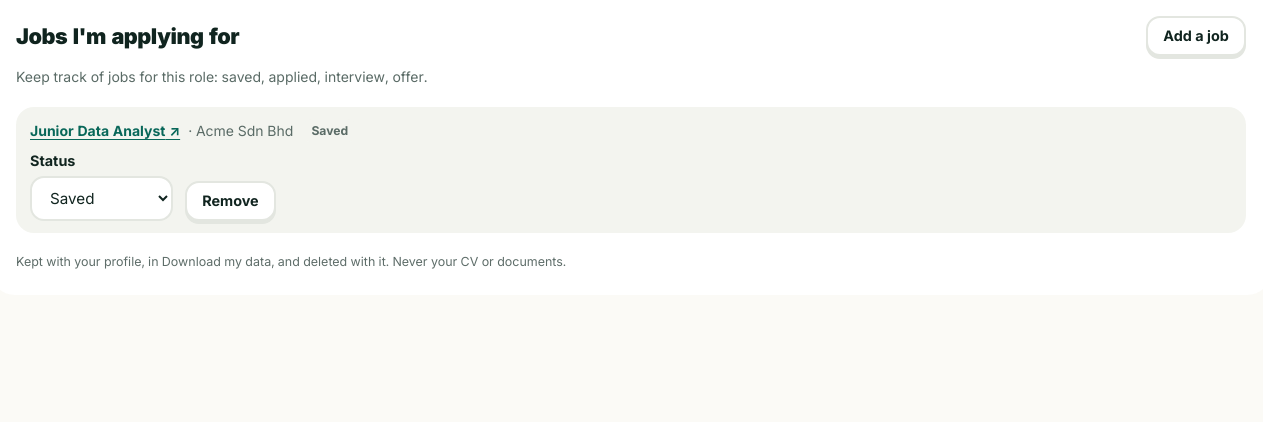
Test: ApplicationTracker › lists saved jobs for this role, adds one and moves one to interview
The image size is (1263, 422).
Expected: the link "Junior Data Analyst ↗" is shown, [30, 122, 180, 139]
Click the button "Add a job" at (1196, 36), box [1146, 16, 1246, 56]
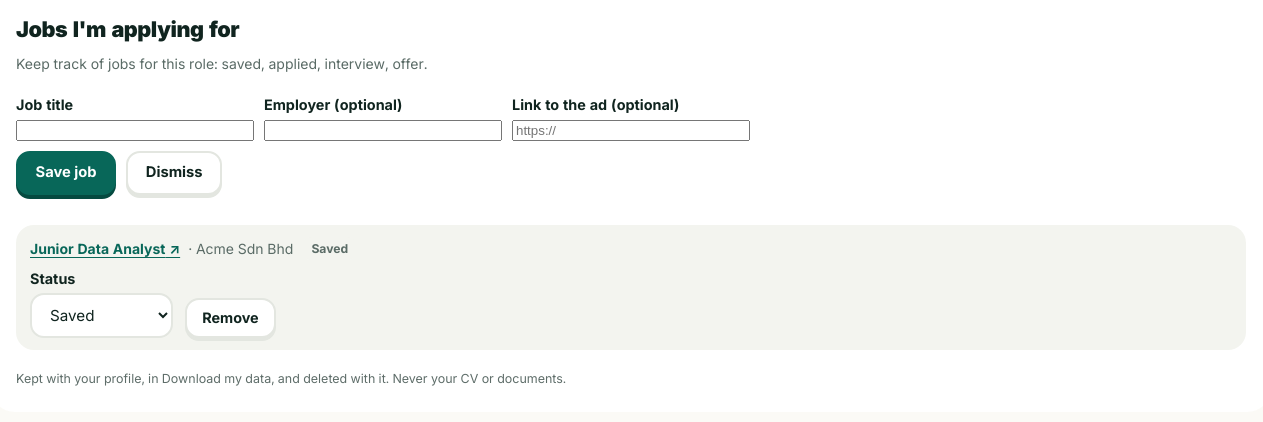
Type "Data Analyst Intern" into the field labelled "Job title" at (135, 130), box [16, 120, 254, 141]
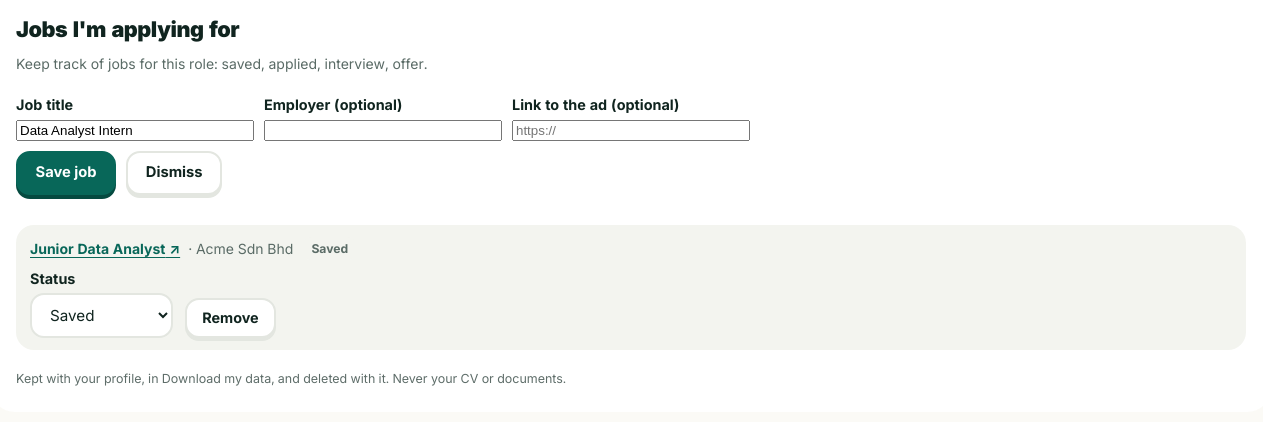
Click the button "Save job" at (66, 173), box [16, 151, 116, 195]
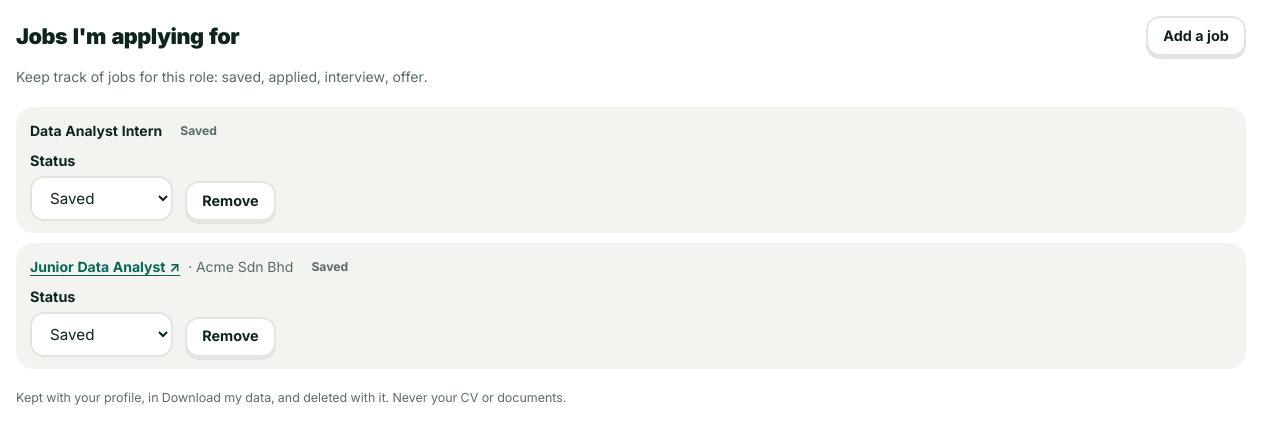
Expected: the text "Data Analyst Intern" is shown, [30, 120, 162, 141]
Select "Interview" in the dropdown labelled "Status" below "Junior Data Analyst" at (102, 334), box [30, 312, 173, 357]
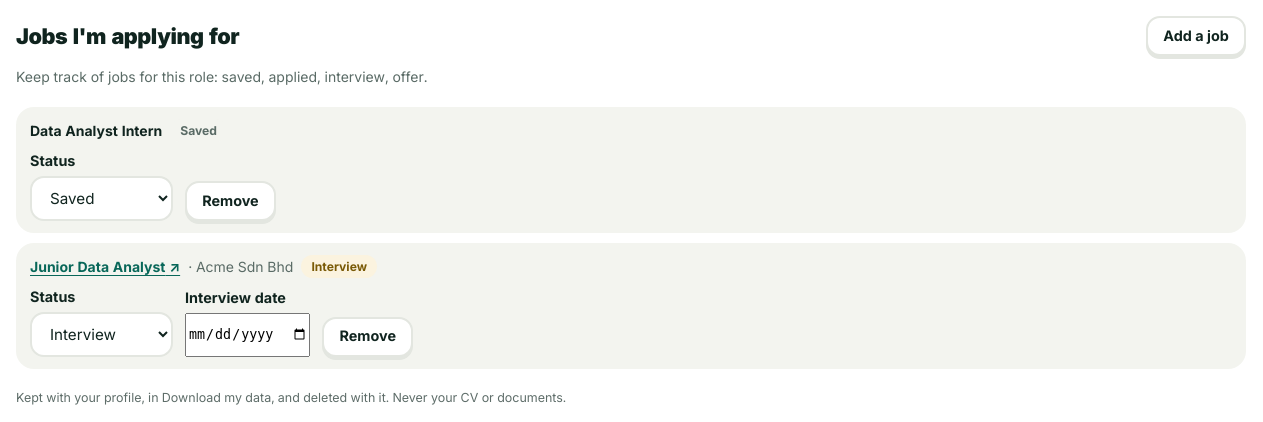
Expected: the date field labelled "Interview date" is shown, [185, 313, 310, 357]
